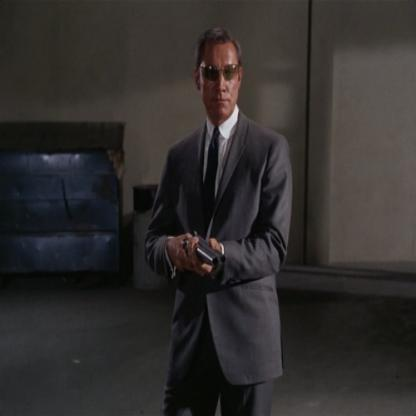Gun: (173, 228, 229, 274)
